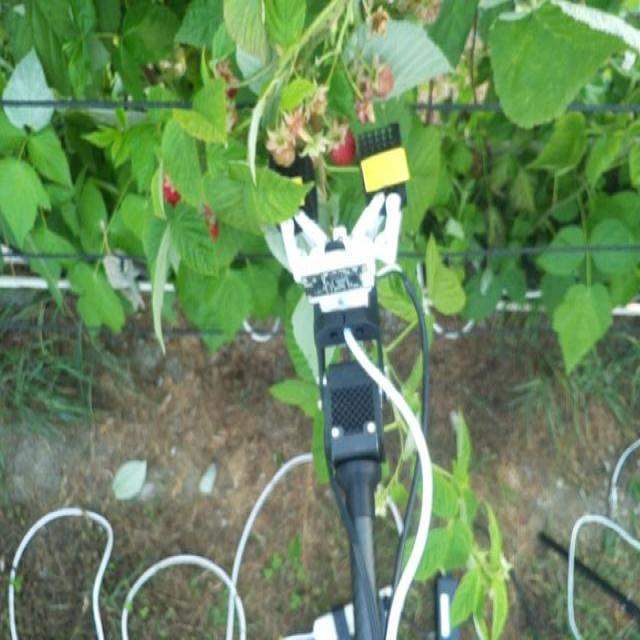Riped berries: (324, 125, 362, 166), (201, 203, 225, 240), (162, 172, 184, 206)
